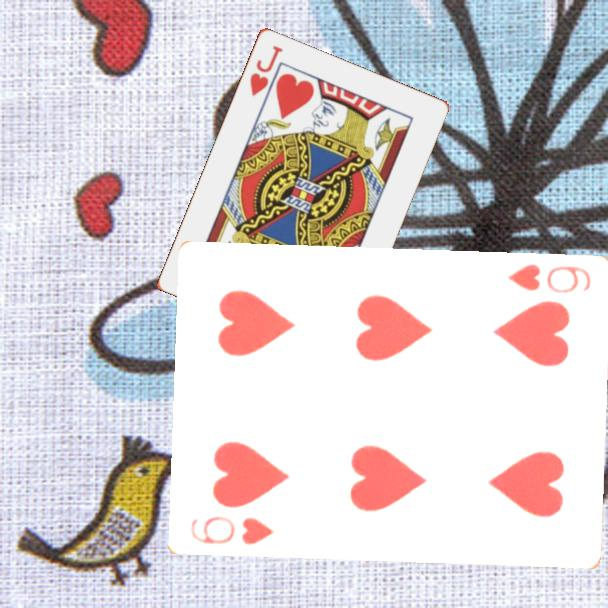h06: (504, 261, 593, 297), (186, 513, 276, 548)
h11: (246, 41, 286, 99)
